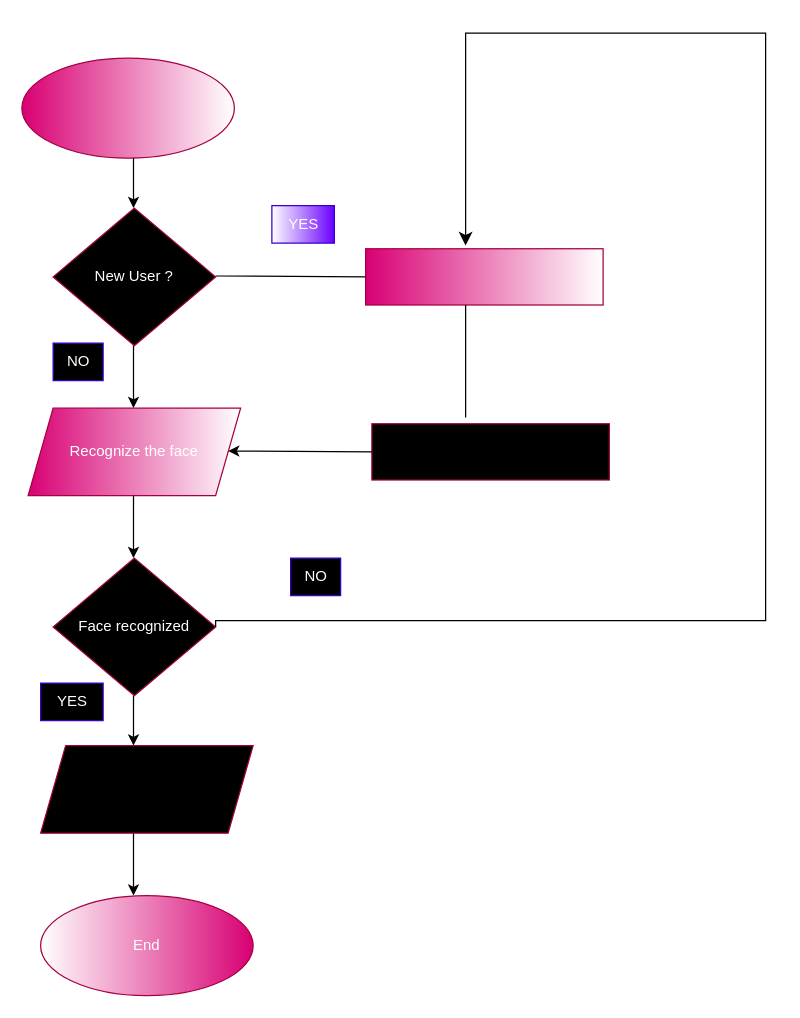
The diagram is 800 pixels wide and 1018 high, and some of its shapes have lost their labels. Each missing label, with the centre of its shape:
"Give your photograph" goes at (483,276).
"Start" goes at (127,107).
"Store in csv file with registration number & date ,time of entry" goes at (146,788).
"Store the face data in folder on your name" goes at (490,451).
